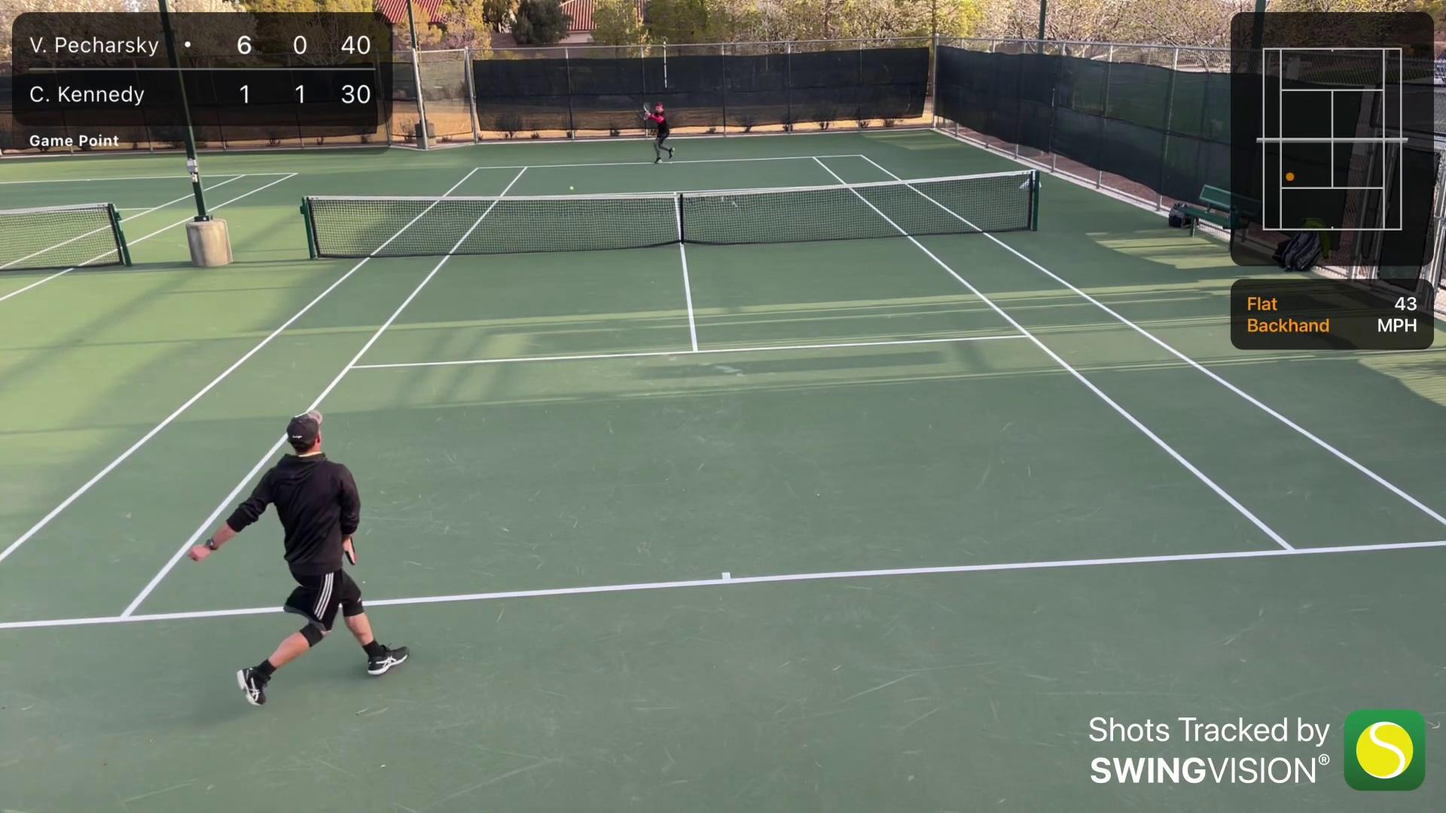ball: (568, 184, 576, 190)
